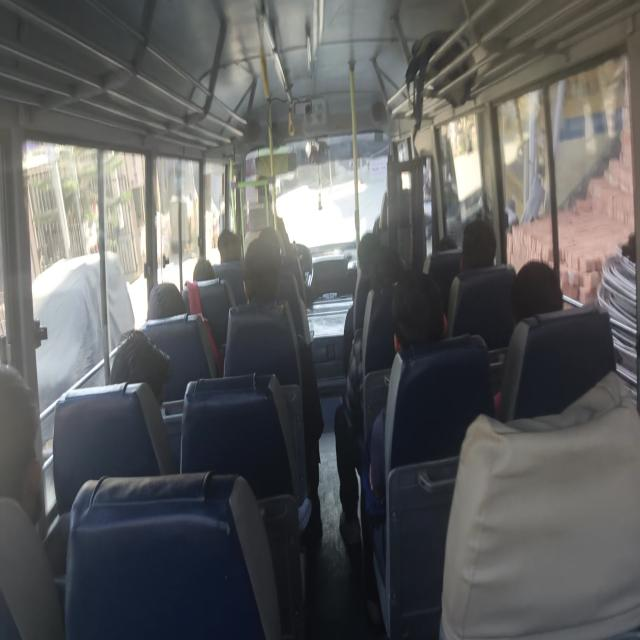person: (360, 268, 448, 628), (223, 228, 324, 540), (334, 246, 405, 548), (0, 362, 64, 638), (493, 258, 564, 418), (0, 362, 44, 523), (446, 217, 497, 337), (342, 232, 381, 373), (109, 328, 172, 405), (510, 259, 563, 327), (460, 217, 496, 271), (147, 282, 187, 319), (217, 228, 242, 263), (192, 256, 215, 282)
